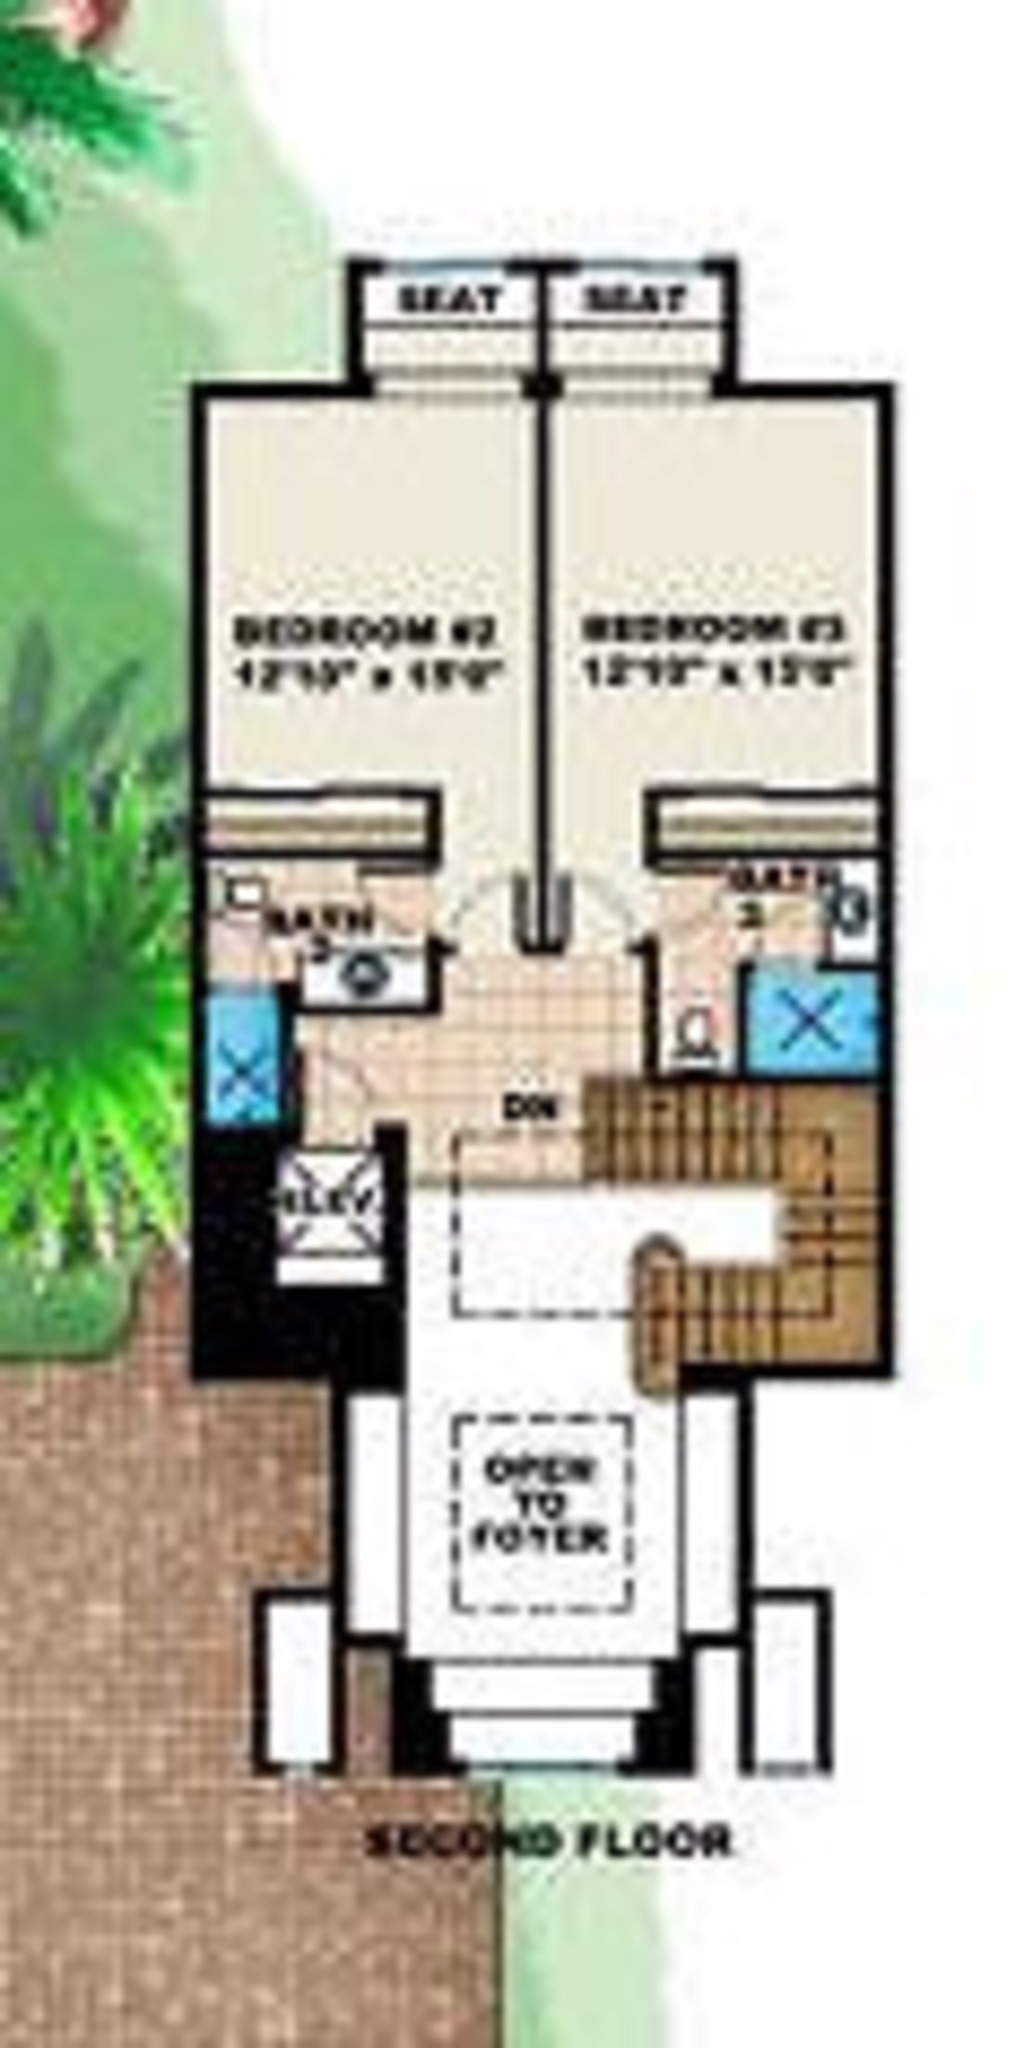door: (428, 867, 532, 943), (558, 858, 641, 947)
large_sink: (661, 993, 730, 1080)
small_sink: (304, 943, 438, 1023), (811, 863, 893, 978)
stairs: (585, 1063, 916, 1384)
